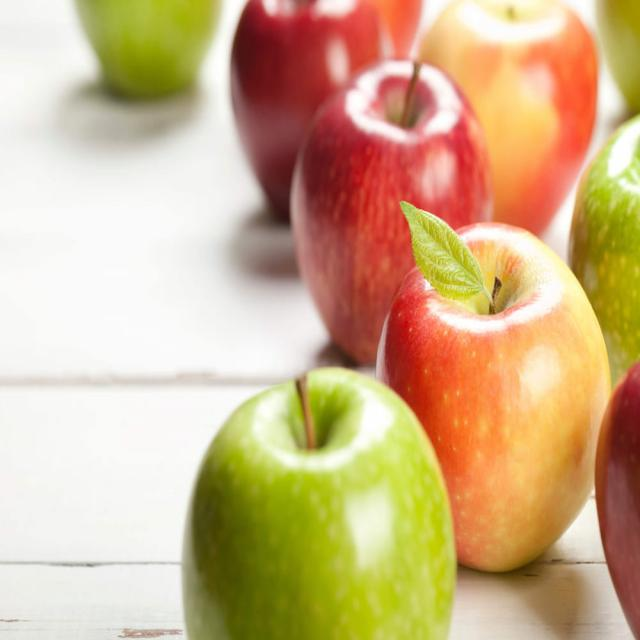Green Apple: (61, 1, 228, 96), (593, 1, 640, 118)
Red Apple: (179, 364, 461, 639), (291, 1, 496, 368)
